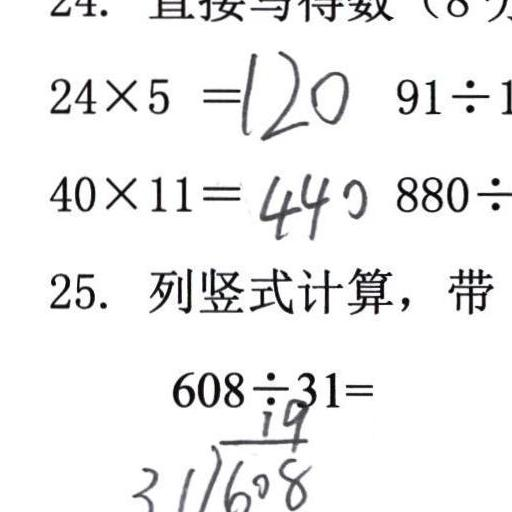ans: (234, 44, 349, 140), (254, 165, 367, 241)
